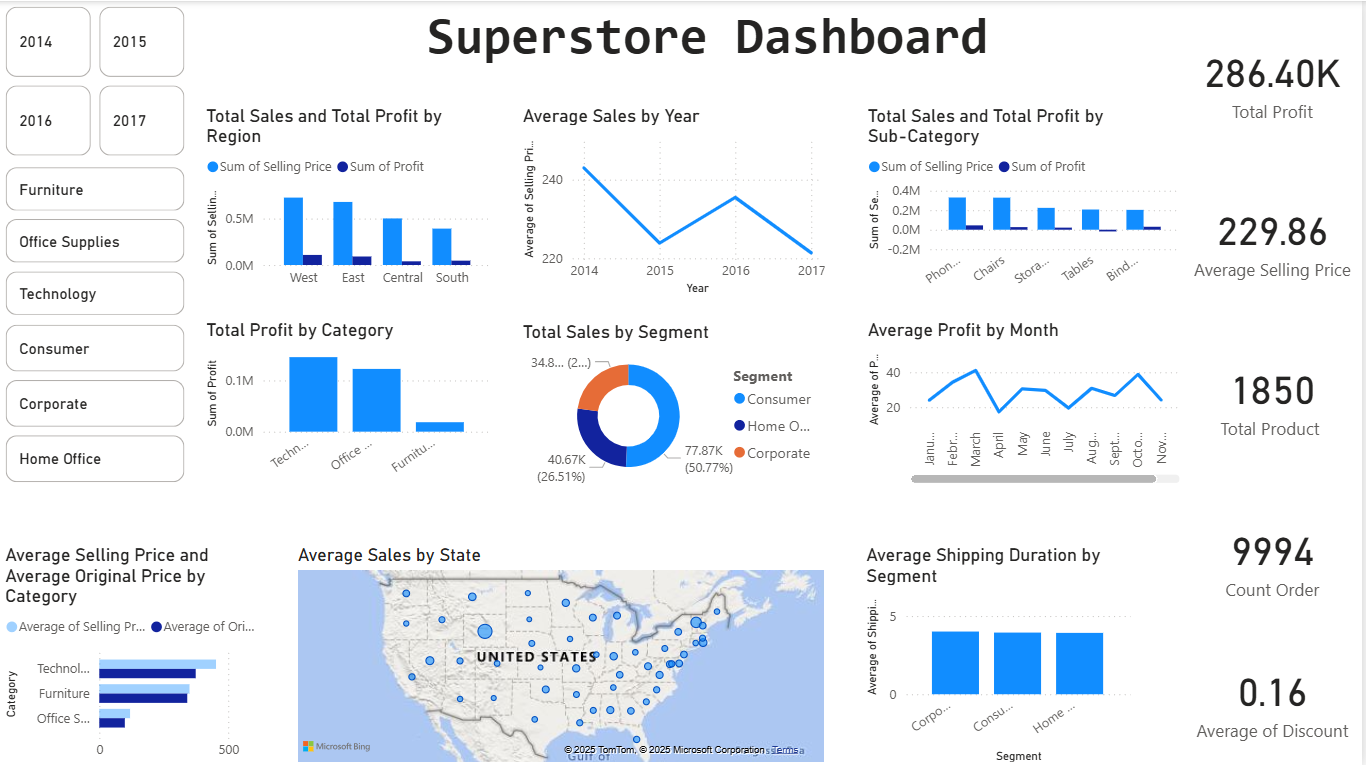

This screenshot's page, from the dashboard's own definition file:
{"tool":"powerbi","page":{"name":"Page 1","canvas":[1280,720],"ordinal":0},"visuals":[{"type":"textbox","box":[328,0,673.2,70],"z":0},{"type":"card","fields":{"Values":["Sum(Superstore.Profit)"]},"box":[1112.9,0,166.6,149.9],"z":1000},{"type":"card","fields":{"Values":["Avg(Superstore.Sales)"]},"box":[1112.9,149.9,166.6,148.4],"z":2000},{"type":"advancedSlicerVisual","fields":{"Values":["Superstore.Segment"]},"box":[0,298.3,178.7,160.5],"z":3000},{"type":"card","fields":{"Values":["Count(Superstore.Product Name)"]},"box":[1112.5,297.5,166.4,150.9],"z":4000},{"type":"advancedSlicerVisual","fields":{"Values":["Superstore.Order Date.Variation.Date Hierarchy.Year"]},"box":[0,0,178.7,151.4],"z":5000},{"type":"clusteredColumnChart","title":"Total Profit by Category","fields":{"Y":["Sum(Superstore.Profit)"],"Category":["Superstore.Category"]},"box":[188.5,298.8,278,156.6],"z":6000},{"type":"card","fields":{"Values":["Avg(Superstore.Discount)"]},"box":[1112.9,595.1,166.6,124.2],"z":7000},{"type":"card","fields":{"Values":["CountNonNull(Superstore.Order ID)"]},"box":[1112.9,448.2,166.6,151.4],"z":8000},{"type":"clusteredBarChart","title":"Average Selling Price and Average Original Price by Category","fields":{"Category":["Superstore.Category"],"Y":["Avg(Superstore.Selling Price)","Avg(Superstore.Original Price)"]},"box":[0,509.9,253.4,211.4],"z":9000},{"type":"clusteredColumnChart","title":"Total Sales and Total Profit by Sub-Category","fields":{"Y":["Sum(Superstore.Sales)","Sum(Superstore.Profit)"],"Category":["Superstore.Sub-Category"]},"box":[810.1,96.9,302.8,181.7],"z":10000},{"type":"clusteredColumnChart","title":"Total Sales and Total Profit by Region","fields":{"Y":["Sum(Superstore.Sales)","Sum(Superstore.Profit)"],"Category":["Superstore.Region"]},"box":[188.5,97.5,278,180.5],"z":11000},{"type":"advancedSlicerVisual","fields":{"Values":["Superstore.Category"]},"box":[0,151.4,178.7,149.9],"z":12000},{"type":"lineChart","title":"Average Profit by Month","fields":{"Category":["Superstore.Order Date.Variation.Date Hierarchy.Month"],"Y":["Avg(Superstore.Profit)"]},"box":[810.1,298.3,302.8,159],"z":13000},{"type":"lineChart","title":"Average Sales by Year","fields":{"Category":["Superstore.Order Date.Variation.Date Hierarchy.Year"],"Y":["Avg(Superstore.Sales)"]},"box":[486.1,96.9,293.8,183.2],"z":14000},{"type":"map","title":"Average Sales by State","fields":{"Category":["Superstore.State"],"Size":["Avg(Superstore.Sales)"]},"box":[275.2,509.9,505.3,209.9],"z":15000},{"type":"clusteredColumnChart","title":"Average Shipping Duration by Segment","fields":{"Y":["Avg(Superstore.Shipping Duration)"],"Category":["Superstore.Segment"]},"box":[810,509.9,258.1,209.9],"z":16000},{"type":"donutChart","title":"Total Sales by Segment","fields":{"Category":["Superstore.Segment"],"Y":["Sum(Superstore.Selling Price)"]},"box":[486.1,299.8,293.8,159],"z":17000}]}

Visuals, with their boxes in screenshot pixels (x1, y1, x2, y2), scaled from the page's 1280x720 canvas onto the 1366x765 screenshot:
textbox: (left=350, top=0, right=1068, bottom=74)
card - Sum(Superstore.Profit): (left=1188, top=0, right=1365, bottom=159)
card - Avg(Superstore.Sales): (left=1188, top=159, right=1365, bottom=317)
advancedSlicerVisual - Superstore.Segment: (left=0, top=317, right=191, bottom=487)
card - Count(Superstore.Product Name): (left=1187, top=316, right=1365, bottom=476)
advancedSlicerVisual - Superstore.Order Date.Variation.Date Hierarchy.Year: (left=0, top=0, right=191, bottom=161)
"Total Profit by Category" clusteredColumnChart: (left=201, top=317, right=498, bottom=484)
card - Avg(Superstore.Discount): (left=1188, top=632, right=1365, bottom=764)
card - CountNonNull(Superstore.Order ID): (left=1188, top=476, right=1365, bottom=637)
"Average Selling Price and Average Original Price by Category" clusteredBarChart: (left=0, top=542, right=270, bottom=764)
"Total Sales and Total Profit by Sub-Category" clusteredColumnChart: (left=865, top=103, right=1188, bottom=296)
"Total Sales and Total Profit by Region" clusteredColumnChart: (left=201, top=104, right=498, bottom=295)
advancedSlicerVisual - Superstore.Category: (left=0, top=161, right=191, bottom=320)
"Average Profit by Month" lineChart: (left=865, top=317, right=1188, bottom=486)
"Average Sales by Year" lineChart: (left=519, top=103, right=832, bottom=298)
"Average Sales by State" map: (left=294, top=542, right=833, bottom=764)
"Average Shipping Duration by Segment" clusteredColumnChart: (left=864, top=542, right=1140, bottom=764)
"Total Sales by Segment" donutChart: (left=519, top=319, right=832, bottom=487)
